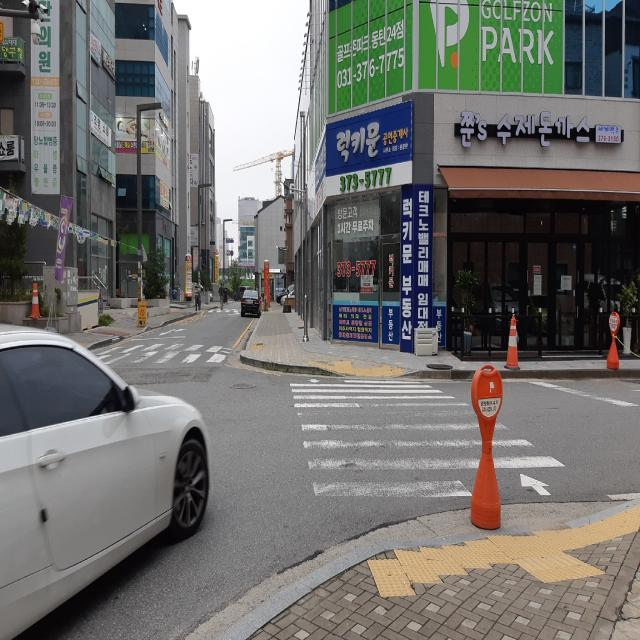횡단보도: (289, 378, 566, 498)
